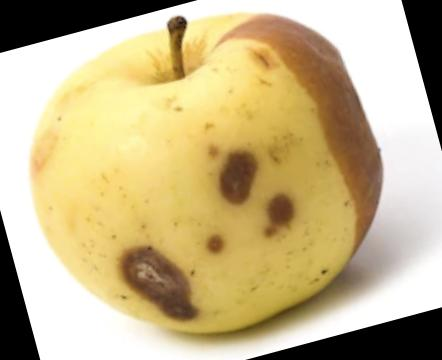Apple: (28, 10, 384, 334)
